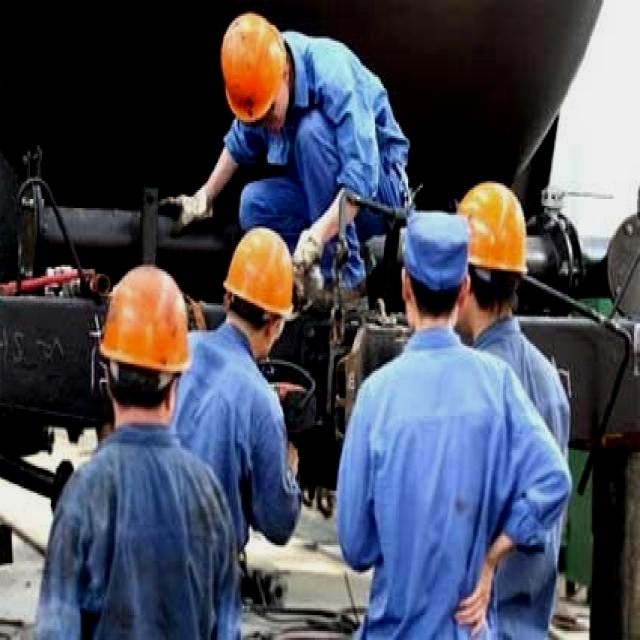Con_Casco: (103, 265, 186, 431), (219, 226, 298, 356)
Sin_Casco_Mascarrilla: (396, 213, 470, 335)
